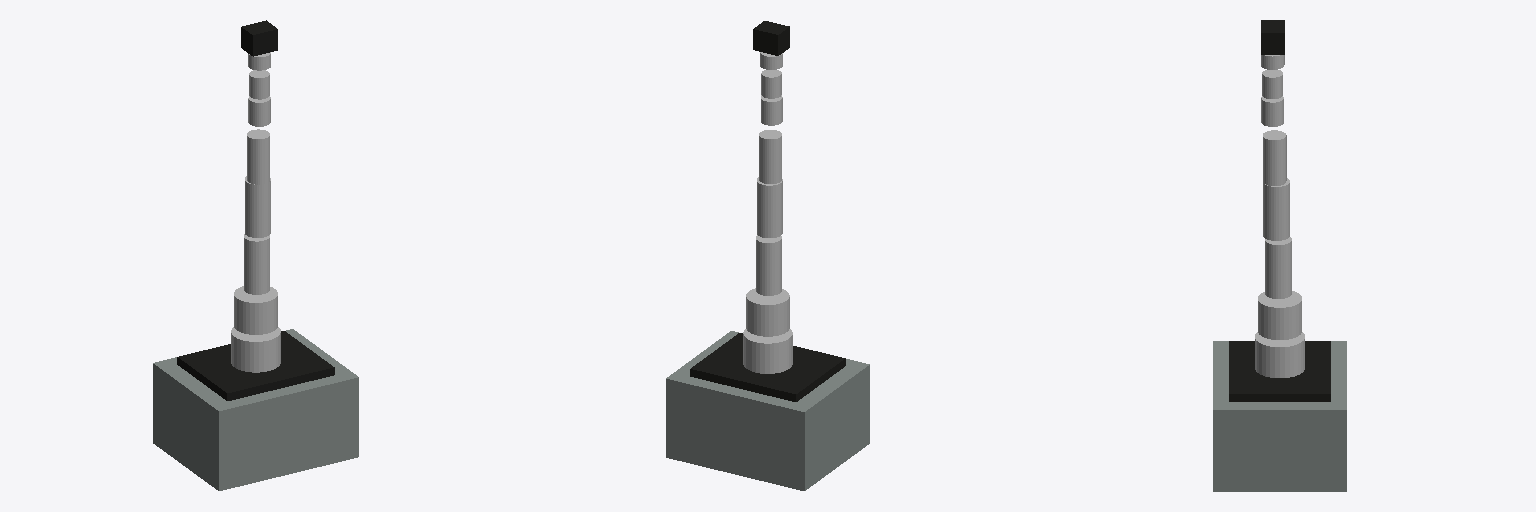
robot.urdf — tidybot_gen3_10dof:
<?xml version="1.0"?>
<robot name="tidybot_gen3_10dof">
  <!--
    Lightweight URDF model for TetraPGA examples/tests.

    The mobile base is represented as three serial 1-DoF joints:
      base_x_joint, base_y_joint, base_yaw_joint.
    This avoids URDF planar/floating joints so it stays on the R/P joint path
    implemented by TetraPGA.

    The Kinova Gen3 arm inertial and joint data follows the Stanford TidyBot /
    Gen3 descriptions. The Robotiq gripper is modeled as a fixed terminal load,
    because the full 2F-85 mimic/closed-chain mechanism is not needed for a
    3-DoF base + 7-DoF arm dynamics example.
  -->

  <material name="base_gray">
    <color rgba="0.55 0.58 0.57 1"/>
  </material>
  <material name="dark_gray">
    <color rgba="0.15 0.15 0.14 1"/>
  </material>
  <material name="arm_gray">
    <color rgba="0.75294 0.75294 0.75294 1"/>
  </material>

  <link name="world"/>

  <link name="mobile_x_link"/>
  <joint name="base_x_joint" type="prismatic">
    <origin rpy="0 0 0" xyz="0 0 0"/>
    <parent link="world"/>
    <child link="mobile_x_link"/>
    <axis xyz="1 0 0"/>
    <limit effort="1000" lower="-10" upper="10" velocity="2"/>
  </joint>

  <link name="mobile_y_link"/>
  <joint name="base_y_joint" type="prismatic">
    <origin rpy="0 0 0" xyz="0 0 0"/>
    <parent link="mobile_x_link"/>
    <child link="mobile_y_link"/>
    <axis xyz="0 1 0"/>
    <limit effort="1000" lower="-10" upper="10" velocity="2"/>
  </joint>

  <link name="mobile_yaw_link"/>
  <joint name="base_yaw_joint" type="revolute">
    <origin rpy="0 0 0" xyz="0 0 0"/>
    <parent link="mobile_y_link"/>
    <child link="mobile_yaw_link"/>
    <axis xyz="0 0 1"/>
    <limit effort="1000" lower="-6.283185307179586" upper="6.283185307179586" velocity="4"/>
  </joint>

  <link name="base_link">
    <inertial>
      <origin rpy="0 0 0" xyz="0 0 0.16"/>
      <mass value="60"/>
      <inertia ixx="1.4625" ixy="0" ixz="0" iyy="1.8020" iyz="0" izz="2.3645"/>
    </inertial>
    <visual>
      <origin rpy="0 0 0" xyz="0 0 0.16"/>
      <geometry>
        <box size="0.55 0.45 0.30"/>
      </geometry>
      <material name="base_gray"/>
    </visual>
    <visual>
      <origin rpy="0 0 0" xyz="0 0 0.325"/>
      <geometry>
        <box size="0.42 0.34 0.03"/>
      </geometry>
      <material name="dark_gray"/>
    </visual>
    <collision>
      <origin rpy="0 0 0" xyz="0 0 0.16"/>
      <geometry>
        <box size="0.55 0.45 0.30"/>
      </geometry>
    </collision>
  </link>
  <joint name="base_mount_joint" type="fixed">
    <origin rpy="0 0 0" xyz="0 0 0"/>
    <parent link="mobile_yaw_link"/>
    <child link="base_link"/>
  </joint>

  <link name="base_camera_link"/>
  <joint name="base_camera_joint" type="fixed">
    <origin rpy="0 0.7853981633974483 -1.5707963267948966" xyz="0.2525 0 0.335"/>
    <parent link="base_link"/>
    <child link="base_camera_link"/>
  </joint>

  <link name="gen3_base_link">
    <inertial>
      <origin rpy="0 0 0" xyz="-0.000648 -0.000166 0.084487"/>
      <mass value="1.697"/>
      <inertia ixx="0.004622" ixy="0.000009" ixz="0.000060" iyy="0.004495" iyz="0.000009" izz="0.002079"/>
    </inertial>
    <visual>
      <origin rpy="0 0 0" xyz="0 0 0.06"/>
      <geometry>
        <cylinder radius="0.085" length="0.12"/>
      </geometry>
      <material name="arm_gray"/>
    </visual>
    <collision>
      <origin rpy="0 0 0" xyz="0 0 0.06"/>
      <geometry>
        <cylinder radius="0.085" length="0.12"/>
      </geometry>
    </collision>
  </link>
  <joint name="arm_mount_joint" type="fixed">
    <origin rpy="0 0 0" xyz="0 0 0.335"/>
    <parent link="base_link"/>
    <child link="gen3_base_link"/>
  </joint>

  <link name="gen3_shoulder_link">
    <inertial>
      <origin rpy="0 0 0" xyz="-0.000023 -0.010364 -0.07336"/>
      <mass value="1.3773"/>
      <inertia ixx="0.00457" ixy="0.000001" ixz="0.000002" iyy="0.004831" iyz="0.000448" izz="0.001409"/>
    </inertial>
    <visual>
      <origin rpy="0 0 0" xyz="0 0 -0.045"/>
      <geometry>
        <cylinder radius="0.075" length="0.12"/>
      </geometry>
      <material name="arm_gray"/>
    </visual>
    <collision>
      <origin rpy="0 0 0" xyz="0 0 -0.045"/>
      <geometry>
        <cylinder radius="0.075" length="0.12"/>
      </geometry>
    </collision>
  </link>
  <joint name="joint_1" type="revolute">
    <origin rpy="3.1416 0 0" xyz="0 0 0.15643"/>
    <parent link="gen3_base_link"/>
    <child link="gen3_shoulder_link"/>
    <axis xyz="0 0 1"/>
    <limit effort="39" lower="-6.283185307179586" upper="6.283185307179586" velocity="1.3963"/>
  </joint>

  <link name="gen3_half_arm_1_link">
    <inertial>
      <origin rpy="0 0 0" xyz="-0.000044 -0.09958 -0.013278"/>
      <mass value="1.1636"/>
      <inertia ixx="0.011088" ixy="0.000005" ixz="0" iyy="0.001072" iyz="-0.000691" izz="0.011255"/>
    </inertial>
    <visual>
      <origin rpy="1.5707963267948966 0 0" xyz="0 -0.095 0"/>
      <geometry>
        <cylinder radius="0.045" length="0.20"/>
      </geometry>
      <material name="arm_gray"/>
    </visual>
    <collision>
      <origin rpy="1.5707963267948966 0 0" xyz="0 -0.095 0"/>
      <geometry>
        <cylinder radius="0.045" length="0.20"/>
      </geometry>
    </collision>
  </link>
  <joint name="joint_2" type="revolute">
    <origin rpy="1.5708 0 0" xyz="0 0.005375 -0.12838"/>
    <parent link="gen3_shoulder_link"/>
    <child link="gen3_half_arm_1_link"/>
    <axis xyz="0 0 1"/>
    <limit effort="39" lower="-2.24" upper="2.24" velocity="1.3963"/>
  </joint>

  <link name="gen3_half_arm_2_link">
    <inertial>
      <origin rpy="0 0 0" xyz="-0.000044 -0.006641 -0.117892"/>
      <mass value="1.1636"/>
      <inertia ixx="0.010932" ixy="0" ixz="-0.000007" iyy="0.011127" iyz="0.000606" izz="0.001043"/>
    </inertial>
    <visual>
      <origin rpy="0 0 0" xyz="0 0 -0.10"/>
      <geometry>
        <cylinder radius="0.045" length="0.20"/>
      </geometry>
      <material name="arm_gray"/>
    </visual>
    <collision>
      <origin rpy="0 0 0" xyz="0 0 -0.10"/>
      <geometry>
        <cylinder radius="0.045" length="0.20"/>
      </geometry>
    </collision>
  </link>
  <joint name="joint_3" type="revolute">
    <origin rpy="-1.5708 0 0" xyz="0 -0.21038 -0.006375"/>
    <parent link="gen3_half_arm_1_link"/>
    <child link="gen3_half_arm_2_link"/>
    <axis xyz="0 0 1"/>
    <limit effort="39" lower="-6.283185307179586" upper="6.283185307179586" velocity="1.3963"/>
  </joint>

  <link name="gen3_forearm_link">
    <inertial>
      <origin rpy="0 0 0" xyz="-0.000018 -0.075478 -0.015006"/>
      <mass value="0.9302"/>
      <inertia ixx="0.008147" ixy="-0.000001" ixz="0" iyy="0.000631" iyz="-0.0005" izz="0.008316"/>
    </inertial>
    <visual>
      <origin rpy="1.5707963267948966 0 0" xyz="0 -0.075 0"/>
      <geometry>
        <cylinder radius="0.04" length="0.17"/>
      </geometry>
      <material name="arm_gray"/>
    </visual>
    <collision>
      <origin rpy="1.5707963267948966 0 0" xyz="0 -0.075 0"/>
      <geometry>
        <cylinder radius="0.04" length="0.17"/>
      </geometry>
    </collision>
  </link>
  <joint name="joint_4" type="revolute">
    <origin rpy="1.5708 0 0" xyz="0 0.006375 -0.21038"/>
    <parent link="gen3_half_arm_2_link"/>
    <child link="gen3_forearm_link"/>
    <axis xyz="0 0 1"/>
    <limit effort="39" lower="-2.57" upper="2.57" velocity="1.3963"/>
  </joint>

  <link name="gen3_spherical_wrist_1_link">
    <inertial>
      <origin rpy="0 0 0" xyz="0.000001 -0.009432 -0.063883"/>
      <mass value="0.6781"/>
      <inertia ixx="0.001596" ixy="0" ixz="0" iyy="0.001607" iyz="0.000256" izz="0.000399"/>
    </inertial>
    <visual>
      <origin rpy="0 0 0" xyz="0 0 -0.045"/>
      <geometry>
        <cylinder radius="0.038" length="0.09"/>
      </geometry>
      <material name="arm_gray"/>
    </visual>
    <collision>
      <origin rpy="0 0 0" xyz="0 0 -0.045"/>
      <geometry>
        <cylinder radius="0.038" length="0.09"/>
      </geometry>
    </collision>
  </link>
  <joint name="joint_5" type="revolute">
    <origin rpy="-1.5708 0 0" xyz="0 -0.20843 -0.006375"/>
    <parent link="gen3_forearm_link"/>
    <child link="gen3_spherical_wrist_1_link"/>
    <axis xyz="0 0 1"/>
    <limit effort="9" lower="-6.283185307179586" upper="6.283185307179586" velocity="1.2218"/>
  </joint>

  <link name="gen3_spherical_wrist_2_link">
    <inertial>
      <origin rpy="0 0 0" xyz="0.000001 -0.045483 -0.00965"/>
      <mass value="0.6781"/>
      <inertia ixx="0.001641" ixy="0" ixz="0" iyy="0.00041" iyz="-0.000278" izz="0.001641"/>
    </inertial>
    <visual>
      <origin rpy="1.5707963267948966 0 0" xyz="0 -0.035 0"/>
      <geometry>
        <cylinder radius="0.035" length="0.08"/>
      </geometry>
      <material name="arm_gray"/>
    </visual>
    <collision>
      <origin rpy="1.5707963267948966 0 0" xyz="0 -0.035 0"/>
      <geometry>
        <cylinder radius="0.035" length="0.08"/>
      </geometry>
    </collision>
  </link>
  <joint name="joint_6" type="revolute">
    <origin rpy="1.5708 0 0" xyz="0 0.00017505 -0.10593"/>
    <parent link="gen3_spherical_wrist_1_link"/>
    <child link="gen3_spherical_wrist_2_link"/>
    <axis xyz="0 0 1"/>
    <limit effort="9" lower="-2.09" upper="2.09" velocity="1.2218"/>
  </joint>

  <link name="gen3_bracelet_link">
    <inertial>
      <origin rpy="0 0 0" xyz="0.000281 0.011402 -0.029798"/>
      <mass value="0.5"/>
      <inertia ixx="0.000587" ixy="0.000003" ixz="0.000003" iyy="0.000369" iyz="-0.000118" izz="0.000609"/>
    </inertial>
    <visual>
      <origin rpy="0 0 0" xyz="0 0 -0.025"/>
      <geometry>
        <cylinder radius="0.04" length="0.05"/>
      </geometry>
      <material name="arm_gray"/>
    </visual>
    <collision>
      <origin rpy="0 0 0" xyz="0 0 -0.025"/>
      <geometry>
        <cylinder radius="0.04" length="0.05"/>
      </geometry>
    </collision>
  </link>
  <joint name="joint_7" type="revolute">
    <origin rpy="-1.5708 0 0" xyz="0 -0.10593 -0.00017505"/>
    <parent link="gen3_spherical_wrist_2_link"/>
    <child link="gen3_bracelet_link"/>
    <axis xyz="0 0 1"/>
    <limit effort="9" lower="-6.283185307179586" upper="6.283185307179586" velocity="1.2218"/>
  </joint>

  <link name="robotiq_2f85_base_link">
    <inertial>
      <origin rpy="0 0 0" xyz="0 0 0.0354675"/>
      <mass value="0.777441"/>
      <inertia ixx="0.000260285" ixy="0" ixz="0" iyy="0.000225381" iyz="0" izz="0.000152708"/>
    </inertial>
    <visual>
      <origin rpy="0 0 0" xyz="0 0 0.04"/>
      <geometry>
        <box size="0.08 0.10 0.08"/>
      </geometry>
      <material name="dark_gray"/>
    </visual>
    <collision>
      <origin rpy="0 0 0" xyz="0 0 0.04"/>
      <geometry>
        <box size="0.08 0.10 0.08"/>
      </geometry>
    </collision>
  </link>
  <joint name="gripper_mount_joint" type="fixed">
    <origin rpy="3.141592653589793 0 1.5707963267948966" xyz="0 0 -0.061525"/>
    <parent link="gen3_bracelet_link"/>
    <child link="robotiq_2f85_base_link"/>
  </joint>

  <link name="tool_frame"/>
  <joint name="tool_frame_joint" type="fixed">
    <origin rpy="3.141592653589793 0 0" xyz="0 0 -0.181525"/>
    <parent link="gen3_bracelet_link"/>
    <child link="tool_frame"/>
  </joint>
</robot>

--- What the picture shows (computed from the rendered views, not written in the file) ---
Views: 3 orthographic renders of the robot side by side, from view 1: azimuth 30°, elevation 25°; view 2: azimuth 150°, elevation 25°; view 3: azimuth 270°, elevation 25°.
Robot: tidybot_gen3_10dof — 16 links, 15 joints (8 revolute, 2 prismatic, 5 fixed); root link world; default pose: every joint at zero.
Links seen in each view (by area): view 1: base_link, gen3_base_link, gen3_shoulder_link, gen3_half_arm_1_link, gen3_half_arm_2_link, gen3_forearm_link, robotiq_2f85_base_link, gen3_spherical_wrist_1_link, gen3_spherical_wrist_2_link; view 2: base_link, gen3_base_link, gen3_shoulder_link, gen3_half_arm_1_link, gen3_half_arm_2_link, gen3_forearm_link, robotiq_2f85_base_link, gen3_spherical_wrist_1_link, gen3_spherical_wrist_2_link; view 3: base_link, gen3_base_link, gen3_shoulder_link, gen3_half_arm_1_link, gen3_half_arm_2_link, gen3_forearm_link, robotiq_2f85_base_link, gen3_spherical_wrist_1_link, gen3_spherical_wrist_2_link.
Link boxes in pixels (x1,y1,x2,y2): base_link: (153, 329, 358, 490); gen3_base_link: (231, 327, 280, 372); gen3_shoulder_link: (234, 286, 277, 334); gen3_half_arm_1_link: (244, 234, 269, 294); gen3_half_arm_2_link: (245, 176, 270, 237); gen3_forearm_link: (247, 129, 269, 184); robotiq_2f85_base_link: (241, 20, 277, 56); gen3_spherical_wrist_1_link: (248, 96, 270, 126); gen3_spherical_wrist_2_link: (249, 70, 269, 99); base_link: (666, 331, 869, 490); gen3_base_link: (743, 329, 792, 373); gen3_shoulder_link: (746, 288, 789, 336); gen3_half_arm_1_link: (756, 235, 781, 295); gen3_half_arm_2_link: (757, 177, 782, 237); gen3_forearm_link: (759, 130, 781, 183); robotiq_2f85_base_link: (753, 21, 789, 55); gen3_spherical_wrist_1_link: (761, 95, 782, 125); gen3_spherical_wrist_2_link: (761, 70, 781, 98); base_link: (1213, 341, 1346, 491); gen3_base_link: (1255, 332, 1304, 377); gen3_shoulder_link: (1258, 291, 1301, 339); gen3_half_arm_1_link: (1265, 237, 1291, 298); gen3_half_arm_2_link: (1263, 178, 1289, 240); gen3_forearm_link: (1263, 130, 1286, 185); robotiq_2f85_base_link: (1261, 20, 1284, 54); gen3_spherical_wrist_1_link: (1261, 96, 1283, 126); gen3_spherical_wrist_2_link: (1262, 70, 1282, 98).
Bounding box of the posed robot: 0.55 × 0.45 × 1.59 m (x, y, z).
Geometry: primitives only (box / cylinder / sphere), no mesh files.
